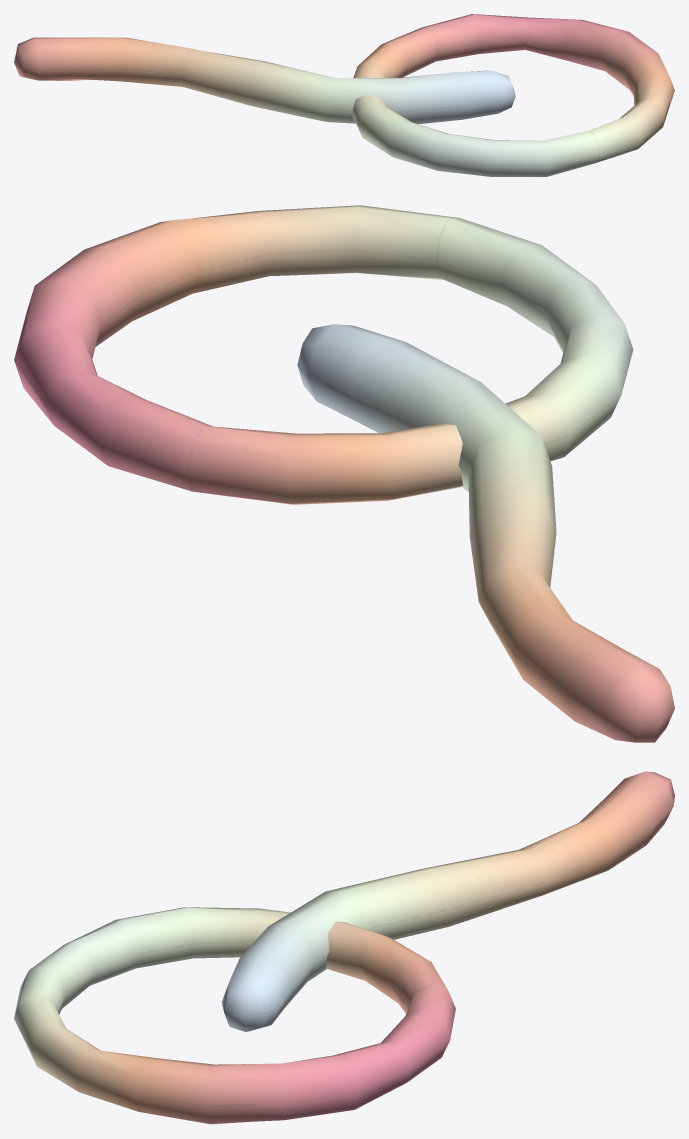
The model's file is Intestine_Single.fbx.
3 renders of one model, top to bottom at view 1: azimuth 30°, elevation 25°; view 2: azimuth 150°, elevation 25°; view 3: azimuth 270°, elevation 25°, orthographic. The views are drawn at different scales.
Parts seen in each view (by area): view 1: Intestine_Single, Intestine_Single_S; view 2: Intestine_Single, Intestine_Single_S; view 3: Intestine_Single, Intestine_Single_S.
Part boxes in pixels (x1,y1,x2,y2): Intestine_Single: (351, 14, 674, 176); Intestine_Single_S: (14, 37, 515, 124); Intestine_Single: (14, 205, 633, 504); Intestine_Single_S: (297, 324, 674, 742); Intestine_Single: (14, 907, 455, 1124); Intestine_Single_S: (221, 771, 674, 1031).
Bounding box in the file's own units: 1982 × 190 × 1753.
